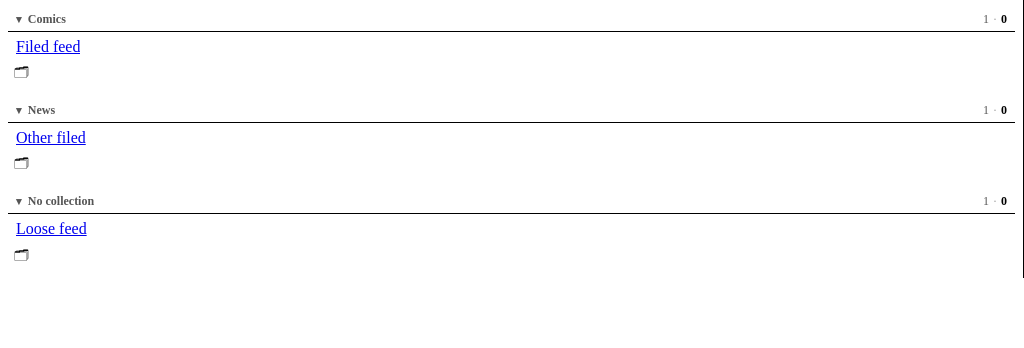
FeedSidebar — moving a feed into a collection › preselects the feed's current collection
Click the 1st button "🗂" at [22, 74], box [8,61,35,87]
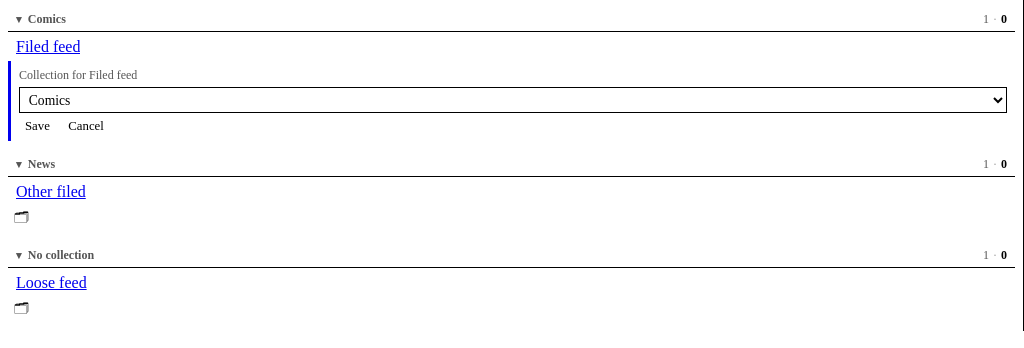
expect the dropdown labelled "Collection for Filed feed" shows "Comics": met, box [19,87,1007,113]
